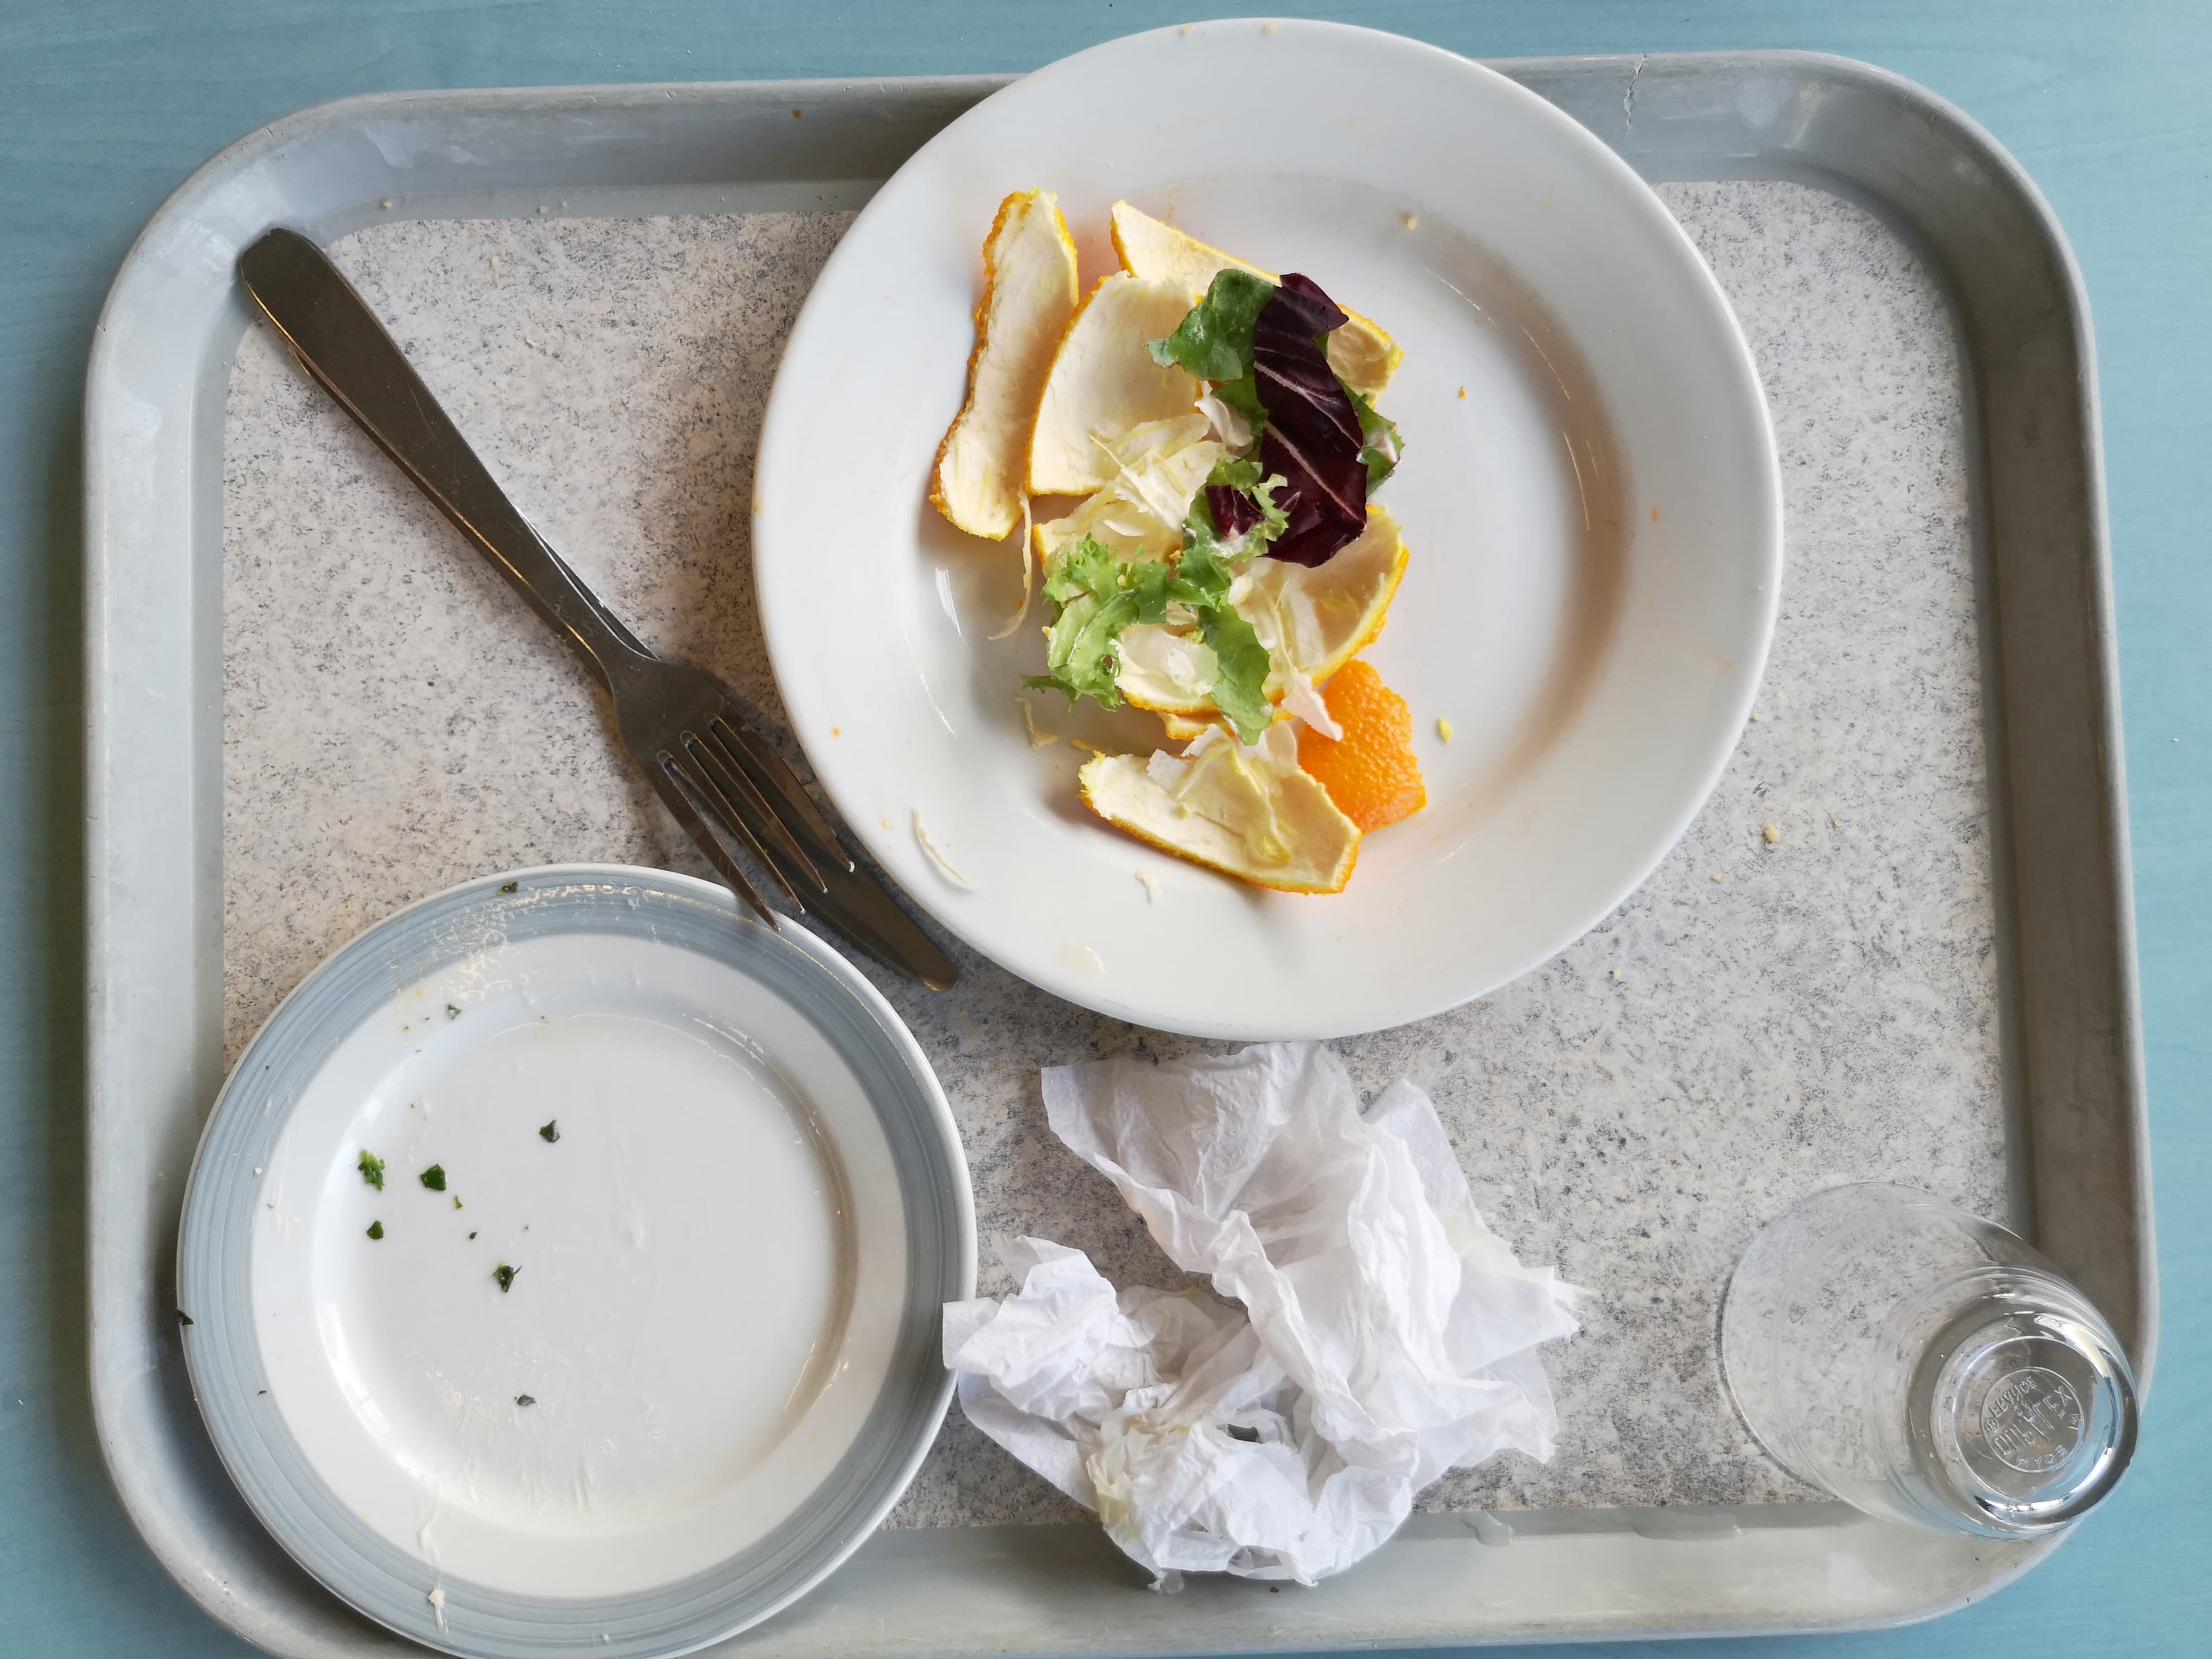cup: (1719, 1143, 2179, 1549)
cutlery: (218, 221, 965, 990)
orga: (956, 223, 1411, 880)
trash: (995, 1051, 1559, 1601)
